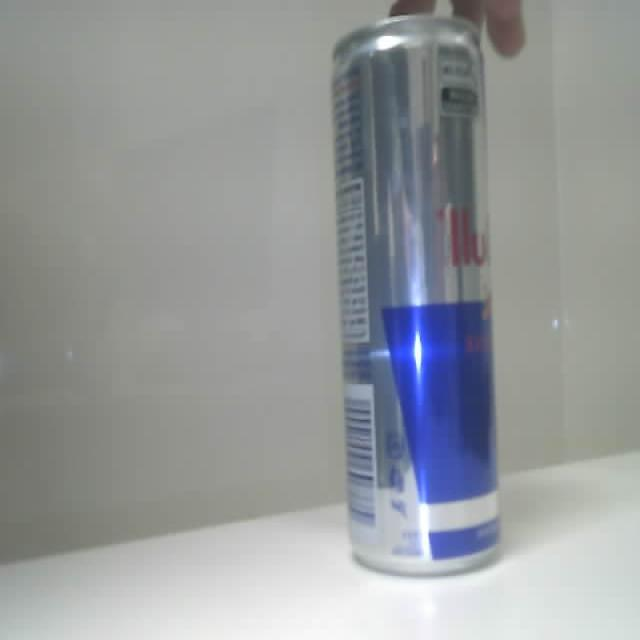redbull can: (333, 16, 498, 573)
